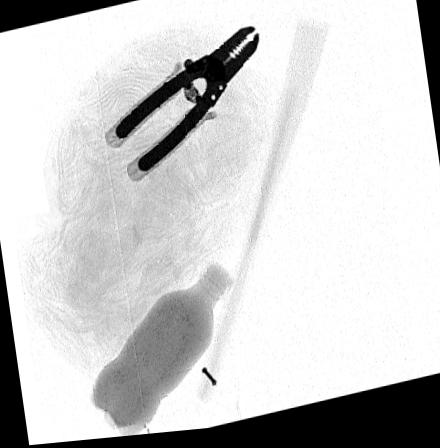Pliers: (112, 30, 260, 178)
